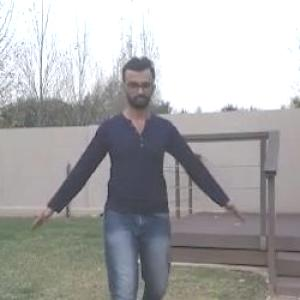land: (33, 62, 226, 299)
